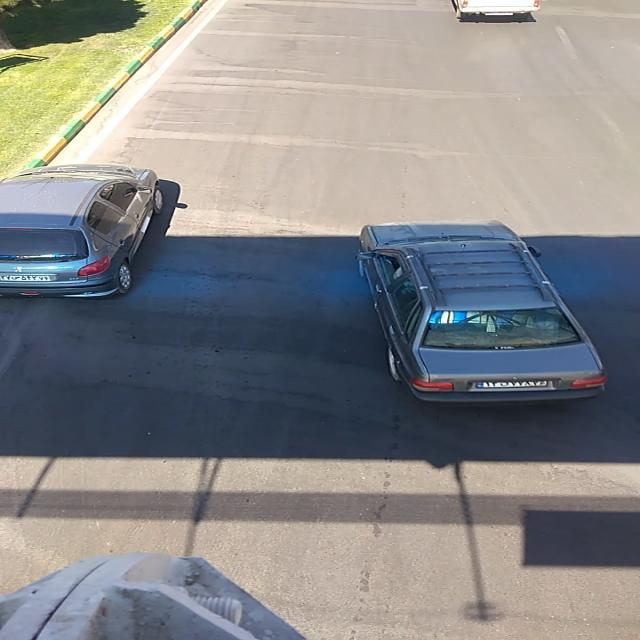car: (352, 218, 606, 406), (0, 164, 161, 298), (450, 1, 540, 22)
